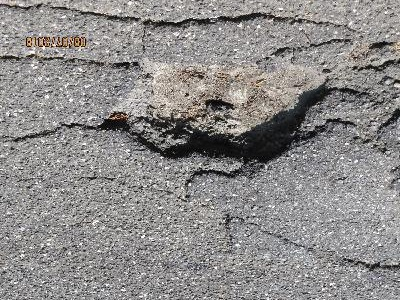pothole: (97, 58, 335, 170)
